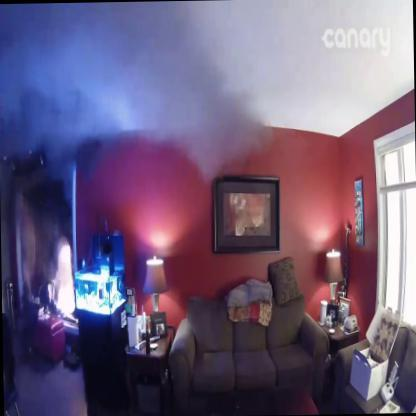smoke: (0, 4, 274, 184)
